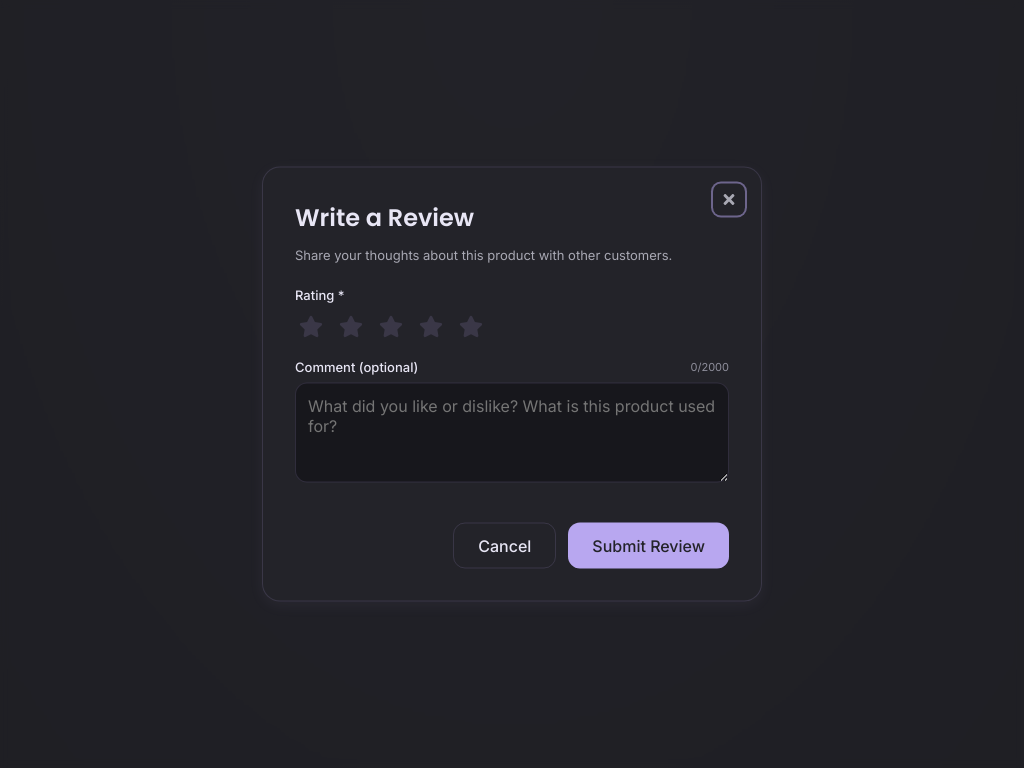
Test: ReviewModal › surfaces a failed mutation as an alert and keeps the dialog open
This screenshot has width=1024, height=768.
Expected: the heading "Write a Review" is shown, left=295, top=200, right=474, bottom=234
Click the radio button named "Rate 5 stars" at (471, 326), box left=455, top=310, right=487, bottom=342
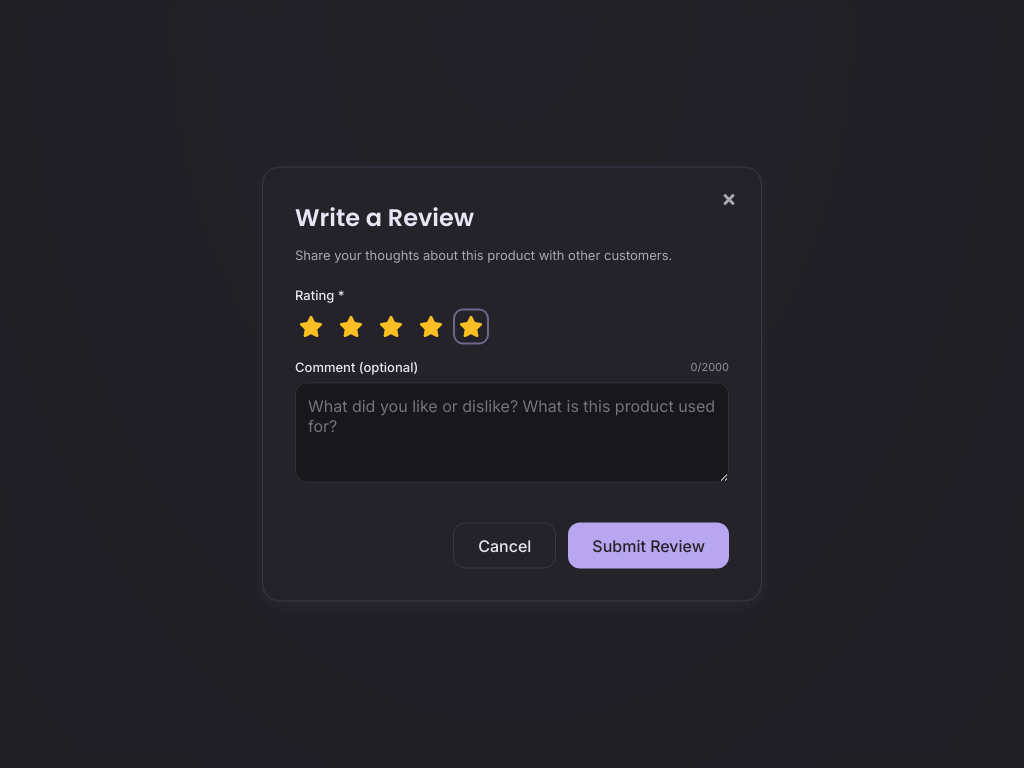
Click the button "Submit Review" at (649, 546), box left=568, top=522, right=729, bottom=568
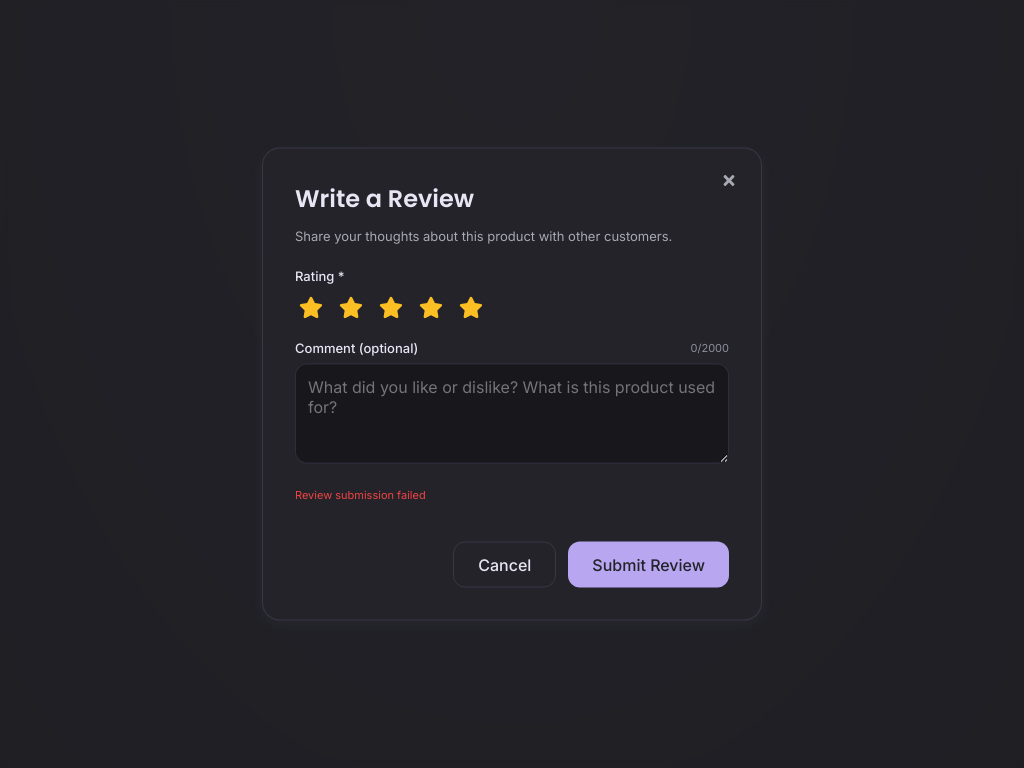
Expected: the message reads "Review submission failed", left=295, top=488, right=426, bottom=502
